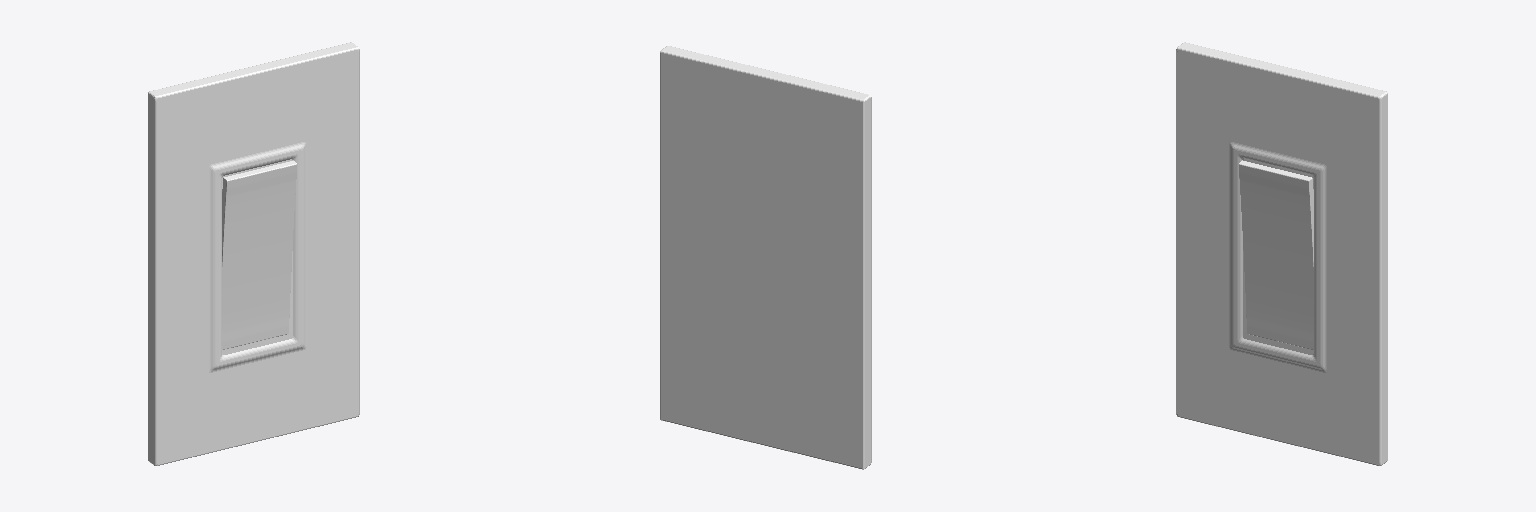
The model's file is Light-Switch.obj.
The picture shows the model from 3 angles: view 1: azimuth 30°, elevation 25°; view 2: azimuth 150°, elevation 25°; view 3: azimuth 330°, elevation 25°; orthographic projection.
Visible parts, largest first — view 1: Switch-Container_Cube.001, Switch-Switcher_Plane.001; view 2: Switch-Container_Cube.001; view 3: Switch-Container_Cube.001, Switch-Switcher_Plane.001.
Boxes of the visible parts, <box> form: Switch-Container_Cube.001: <box>148,42,359,465</box>; Switch-Switcher_Plane.001: <box>222,160,296,349</box>; Switch-Container_Cube.001: <box>660,46,871,469</box>; Switch-Container_Cube.001: <box>1176,42,1387,465</box>; Switch-Switcher_Plane.001: <box>1239,160,1313,349</box>.
Bounding box in the file's own units: 2.9 × 5 × 0.3127.